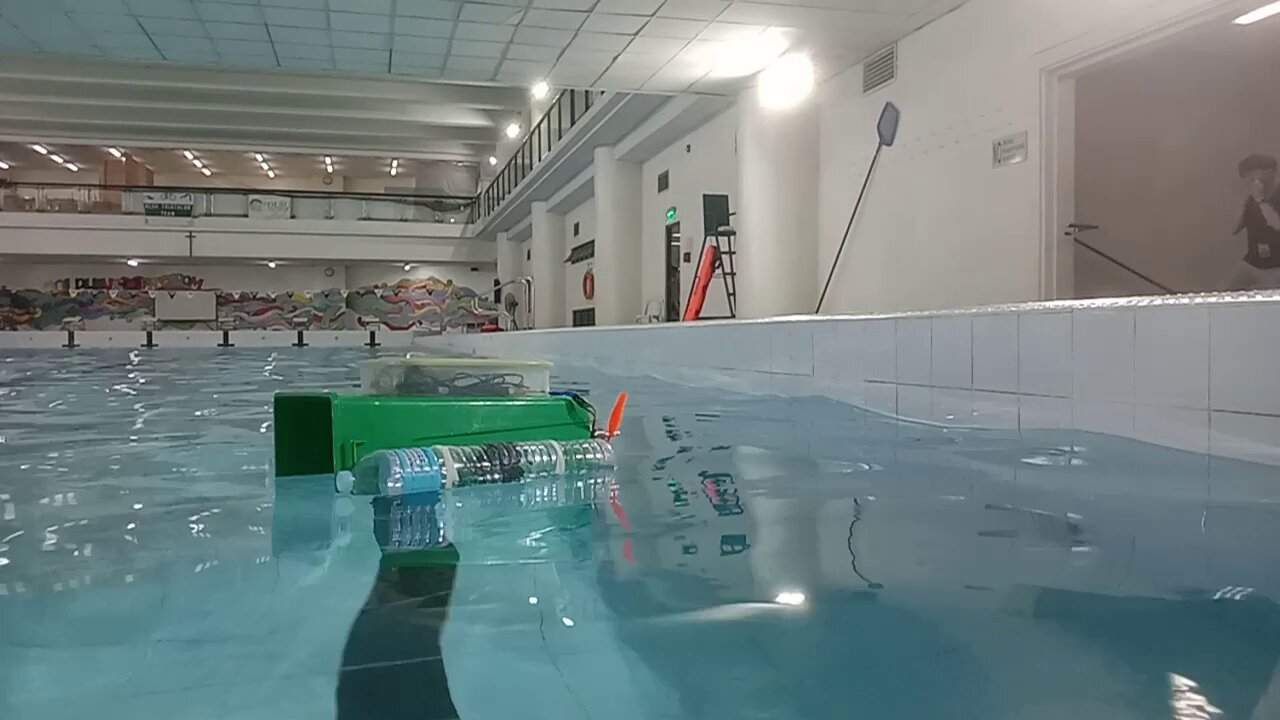drone: (274, 355, 628, 498)
